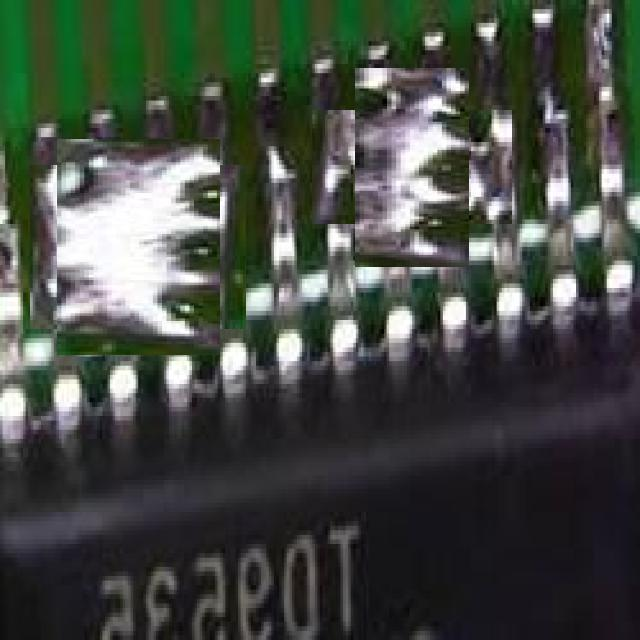Short_circuit: (43, 152, 233, 342), (334, 88, 490, 246)
